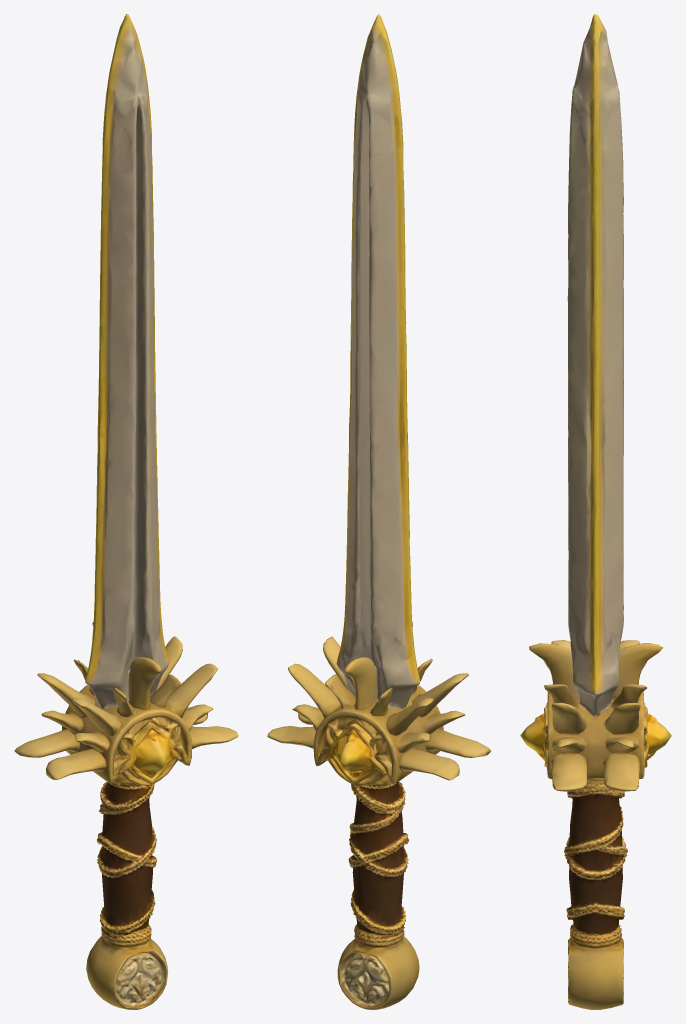
Rendered from sword.glb.
3 views of the same model, side by side, from view 1: azimuth 30°, elevation 25°; view 2: azimuth 150°, elevation 25°; view 3: azimuth 270°, elevation 25° (orthographic).
Parts seen in each view (by area): view 1: tripo_node_41b69b37-07ca-4350-ab30-137d987a088b; view 2: tripo_node_41b69b37-07ca-4350-ab30-137d987a088b; view 3: tripo_node_41b69b37-07ca-4350-ab30-137d987a088b.
Boxes of the visible parts, x1,y1,x2,y2 form: tripo_node_41b69b37-07ca-4350-ab30-137d987a088b: [14, 14, 238, 1009]; tripo_node_41b69b37-07ca-4350-ab30-137d987a088b: [267, 14, 490, 1009]; tripo_node_41b69b37-07ca-4350-ab30-137d987a088b: [520, 14, 671, 1009].
Size of the model in its own units: 0.1946 by 0.9821 by 0.1361.
Materials: 1 (1 with a texture image).
